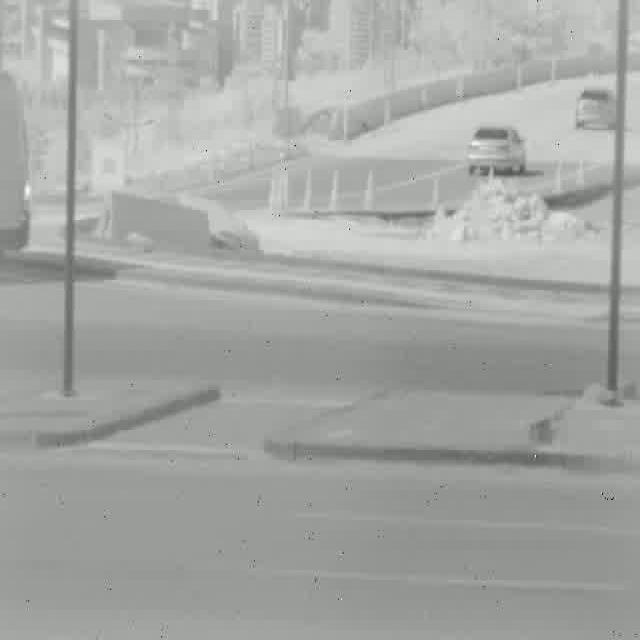Car: (0, 74, 29, 274), (466, 128, 528, 174), (576, 88, 618, 131)
